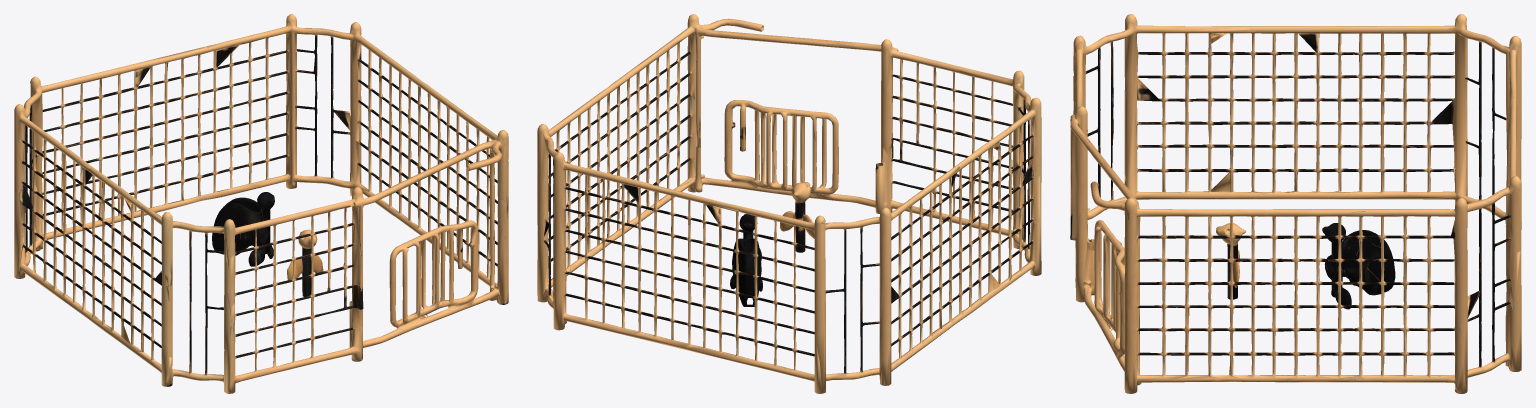
File: base-cage.glb
The picture shows the model from 3 angles, left to right: view 1: azimuth 30°, elevation 25°; view 2: azimuth 150°, elevation 25°; view 3: azimuth 270°, elevation 25°; orthographic projection. The views are drawn at different scales.
Bounding box in the file's own units: 1.89 × 0.9036 × 1.91.
Materials: 1 (1 with a texture image).
